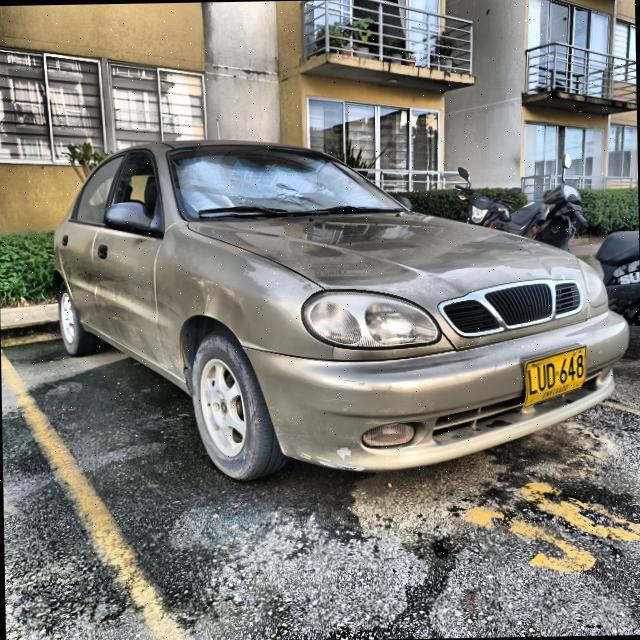plate: (524, 345, 585, 407)
